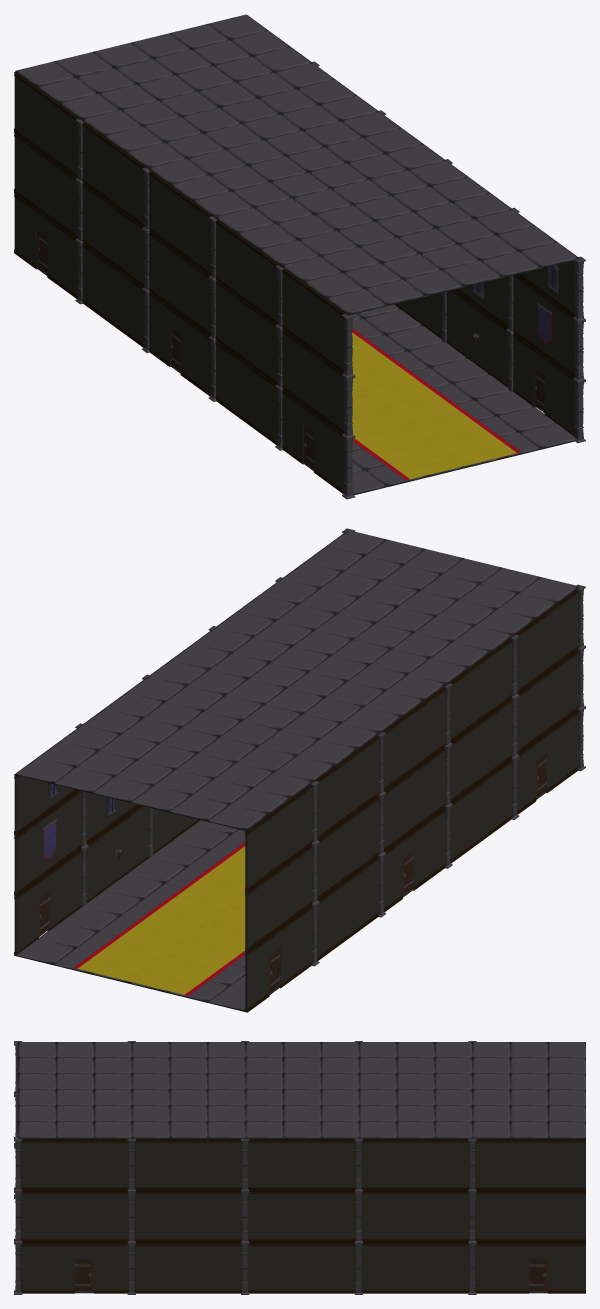
Rendered from CastleModule1 1.fbx.
The picture shows the model from 3 angles, top to bottom: view 1: azimuth 30°, elevation 25°; view 2: azimuth 150°, elevation 25°; view 3: azimuth 270°, elevation 25°; orthographic projection. The views are drawn at different scales.
Visible parts, largest first — view 1: CarpetHall.094, CarpetHall.100, CarpetHall.093, CarpetHall.095, CarpetHall.096, CarpetHall.098, CarpetHall.102, CarpetHall.097, CarpetHall.104, WallDoorHall.018, WallDoorHall.017, WallDoorHall.003 (+173 smaller); view 2: CarpetHall.118, CarpetHall.113, CarpetHall.117, CarpetHall.119, CarpetHall.115, CarpetHall.120, CarpetHall.121, CarpetHall.116, CarpetHall.111, WallDoorHall.017, WallDoorHall.018, WallDoorHall.019 (+179 smaller); view 3: WallDoorHall.019, WallDoorHall.013, HalfWallHall.509, HalfWallHall.511, HalfWallHall.512, HalfWallHall.517, HalfWallHall.518, HalfWallHall.519, HalfWallHall.523, HalfWallHall.524, HalfWallHall.447, HalfWallHall.449 (+170 smaller).
Boxes of the visible parts, x1,y1,x2,y2 form: CarpetHall.094: (442, 436, 521, 466); CarpetHall.100: (375, 387, 454, 417); CarpetHall.093: (384, 450, 463, 480); CarpetHall.095: (362, 434, 440, 463); CarpetHall.096: (420, 420, 498, 449); CarpetHall.098: (397, 403, 476, 433); CarpetHall.102: (353, 371, 432, 401); CarpetHall.097: (352, 417, 419, 447); CarpetHall.104: (352, 354, 409, 384); WallDoorHall.018: (36, 209, 58, 285); WallDoorHall.017: (169, 307, 192, 382); WallDoorHall.003: (302, 404, 325, 480); CarpetHall.118: (153, 949, 232, 979); CarpetHall.113: (162, 886, 241, 916); CarpetHall.117: (118, 919, 196, 949); CarpetHall.119: (96, 935, 174, 965); CarpetHall.115: (140, 903, 218, 932); CarpetHall.120: (131, 965, 210, 995); CarpetHall.121: (73, 951, 152, 981); CarpetHall.116: (175, 933, 245, 963); CarpetHall.111: (184, 870, 245, 900); WallDoorHall.017: (402, 823, 425, 890); WallDoorHall.018: (269, 920, 291, 988); WallDoorHall.019: (38, 864, 61, 931); WallDoorHall.019: (510, 1242, 547, 1293); WallDoorHall.013: (56, 1242, 93, 1293); HalfWallHall.509: (150, 1138, 169, 1190); HalfWallHall.511: (188, 1138, 207, 1190); HalfWallHall.512: (207, 1138, 226, 1190); HalfWallHall.517: (377, 1138, 396, 1190); HalfWallHall.518: (396, 1138, 415, 1190); HalfWallHall.519: (415, 1138, 434, 1190); HalfWallHall.523: (491, 1138, 510, 1190); HalfWallHall.524: (510, 1138, 529, 1190); HalfWallHall.447: (150, 1190, 169, 1242); HalfWallHall.449: (188, 1190, 207, 1242).
Bounding box in the file's own units: 1244 × 910 × 3022.
